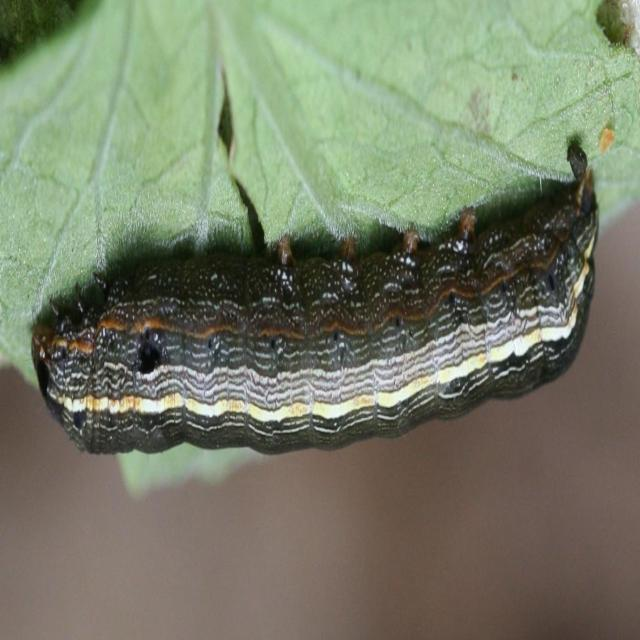army worm: (22, 177, 604, 460)
